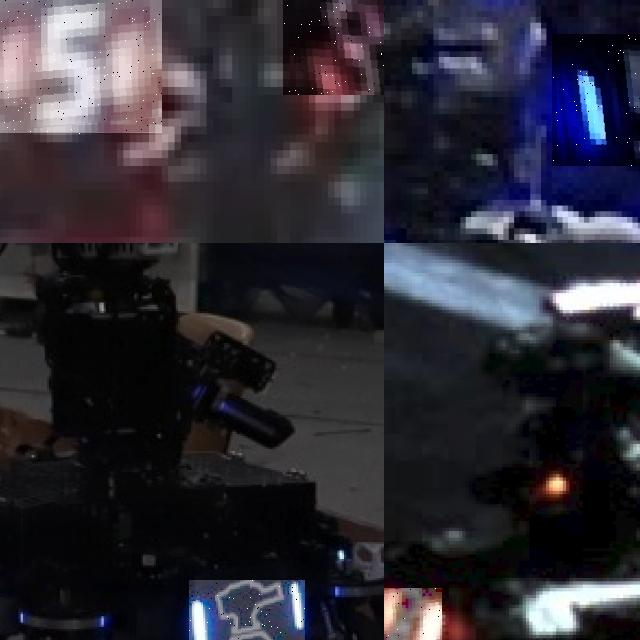B5: (552, 34, 640, 165)
Bs: (189, 580, 305, 640)
R5: (0, 0, 162, 134), (283, 0, 384, 94)
Rs: (384, 588, 442, 640)
